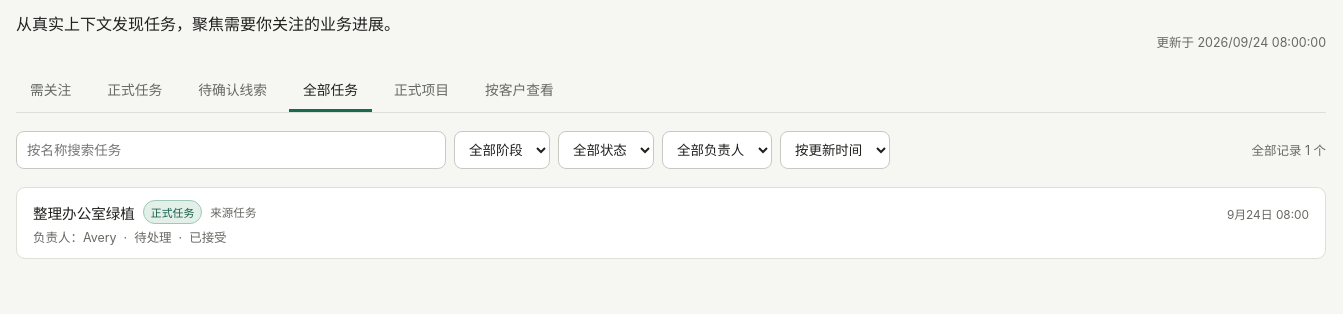
it: TasksPage › filters 全部任务 by stage and status through the API and can clear them
The width and height of the screenshot is (1343, 314).
Expected: the link "整理办公室绿植" is shown, [33,202,135,222]
Select "候选任务" in the dropdown named "任务阶段" at (502, 150), box [454,131,550,169]
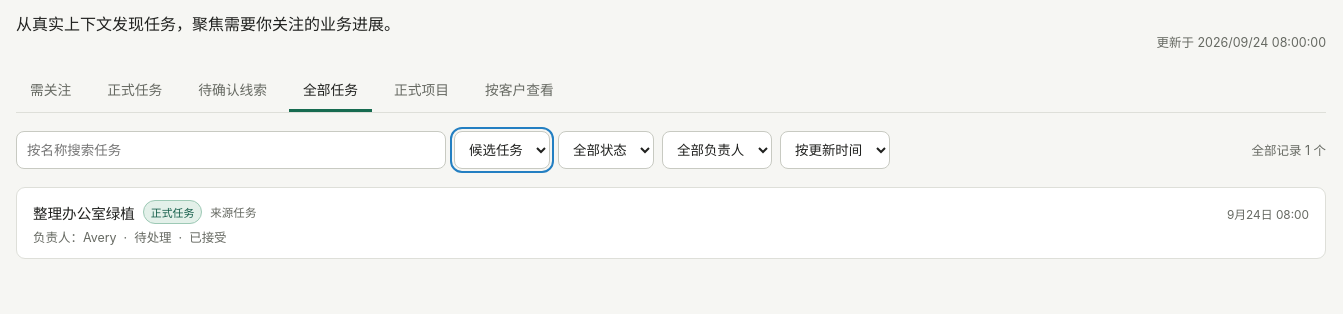
Select "已完成" in the dropdown named "任务状态" at (606, 150), box [558,131,654,169]
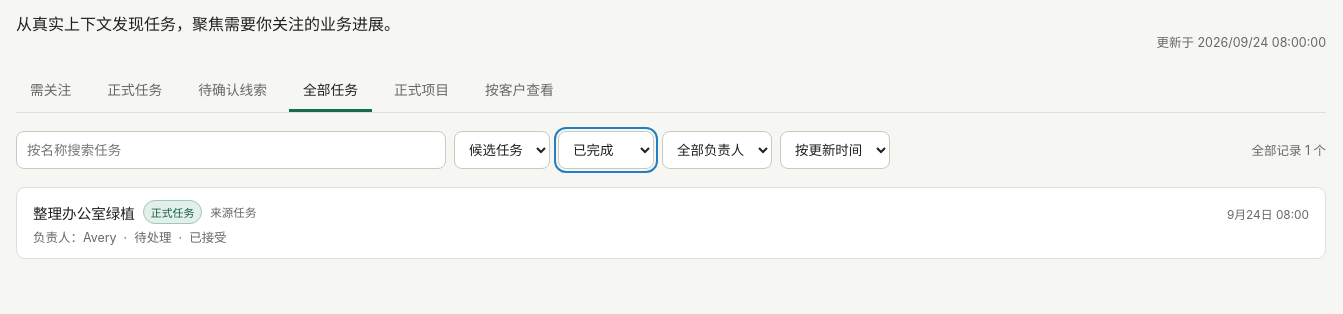
Select "等待中" in the dropdown named "任务状态" at (606, 150), box [558,131,654,169]
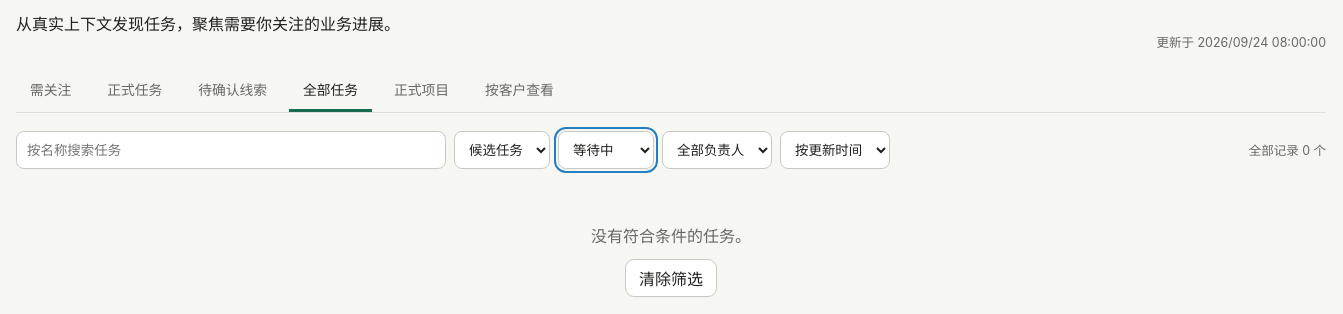
Result: the text "没有符合条件的任务。" is shown at [591,223,751,247]
Click the button "清除筛选" at (671, 278), box [625,259,717,297]
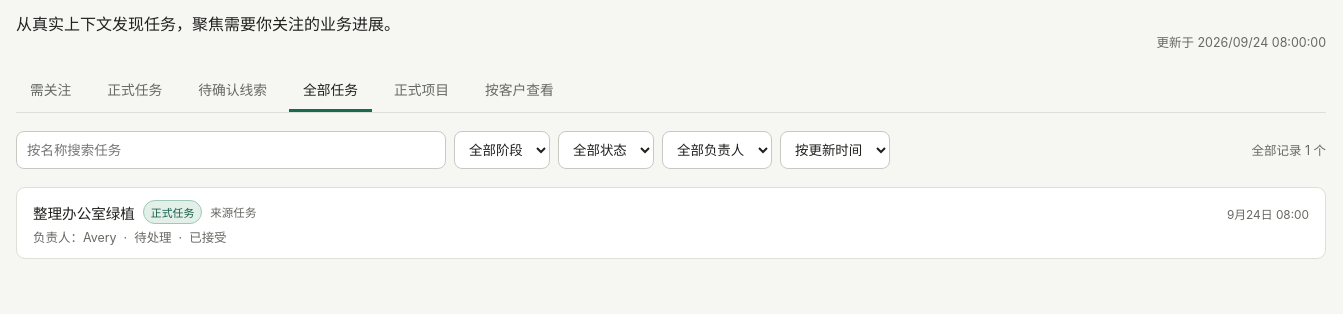
Result: the link "整理办公室绿植" is shown at [33,202,135,222]
